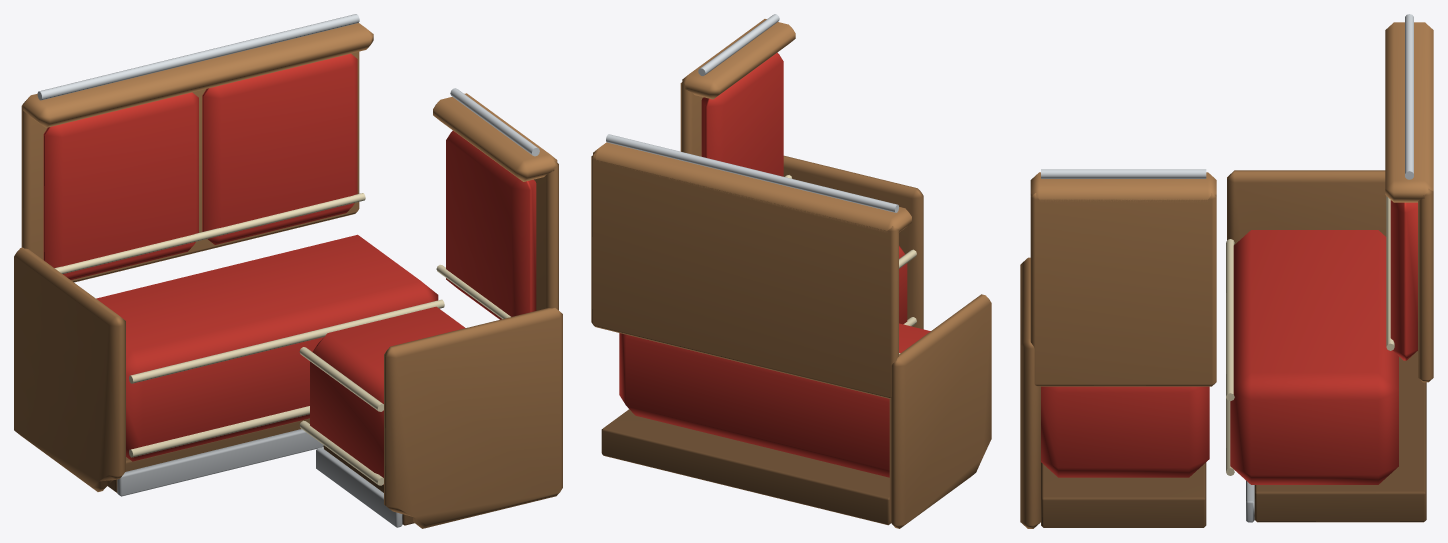
The model's file is SM_Booth_Corner_01.glb.
3 views of the same model, side by side, from view 1: azimuth 30°, elevation 25°; view 2: azimuth 150°, elevation 25°; view 3: azimuth 270°, elevation 25° (orthographic). The views are drawn at different scales.
Parts seen in each view (by area): view 1: SM_Booth_Corner_01; view 2: SM_Booth_Corner_01; view 3: SM_Booth_Corner_01.
Part boxes in pixels (box(x1,y1,x2,y2)): SM_Booth_Corner_01: box(14, 14, 562, 528); SM_Booth_Corner_01: box(591, 14, 991, 528); SM_Booth_Corner_01: box(1020, 14, 1433, 528).
Bounding box in the file's own units: 1.2 × 1.13 × 1.2.
1 material, 1 textured.
